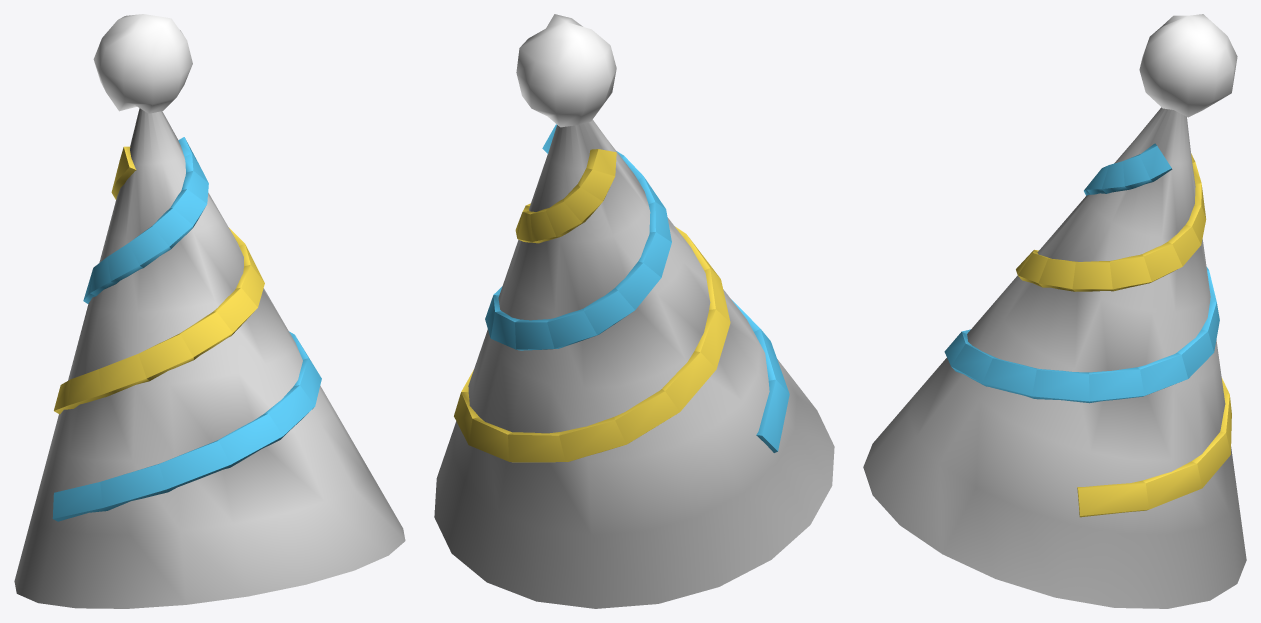
The model's file is acc_party_hat.glb.
3 views of the same model, side by side, from view 1: azimuth 30°, elevation 25°; view 2: azimuth 150°, elevation 25°; view 3: azimuth 270°, elevation 25° (orthographic). The views are drawn at different scales.
Parts seen in each view (by area): view 1: acc_party_hat; view 2: acc_party_hat; view 3: acc_party_hat.
Part boxes in pixels (left/top/right/bottom): acc_party_hat: left=14, top=14, right=405, bottom=608; acc_party_hat: left=434, top=14, right=834, bottom=608; acc_party_hat: left=863, top=14, right=1246, bottom=608.
Bounding box in the file's own units: 0.3486 × 0.5277 × 0.3368.
